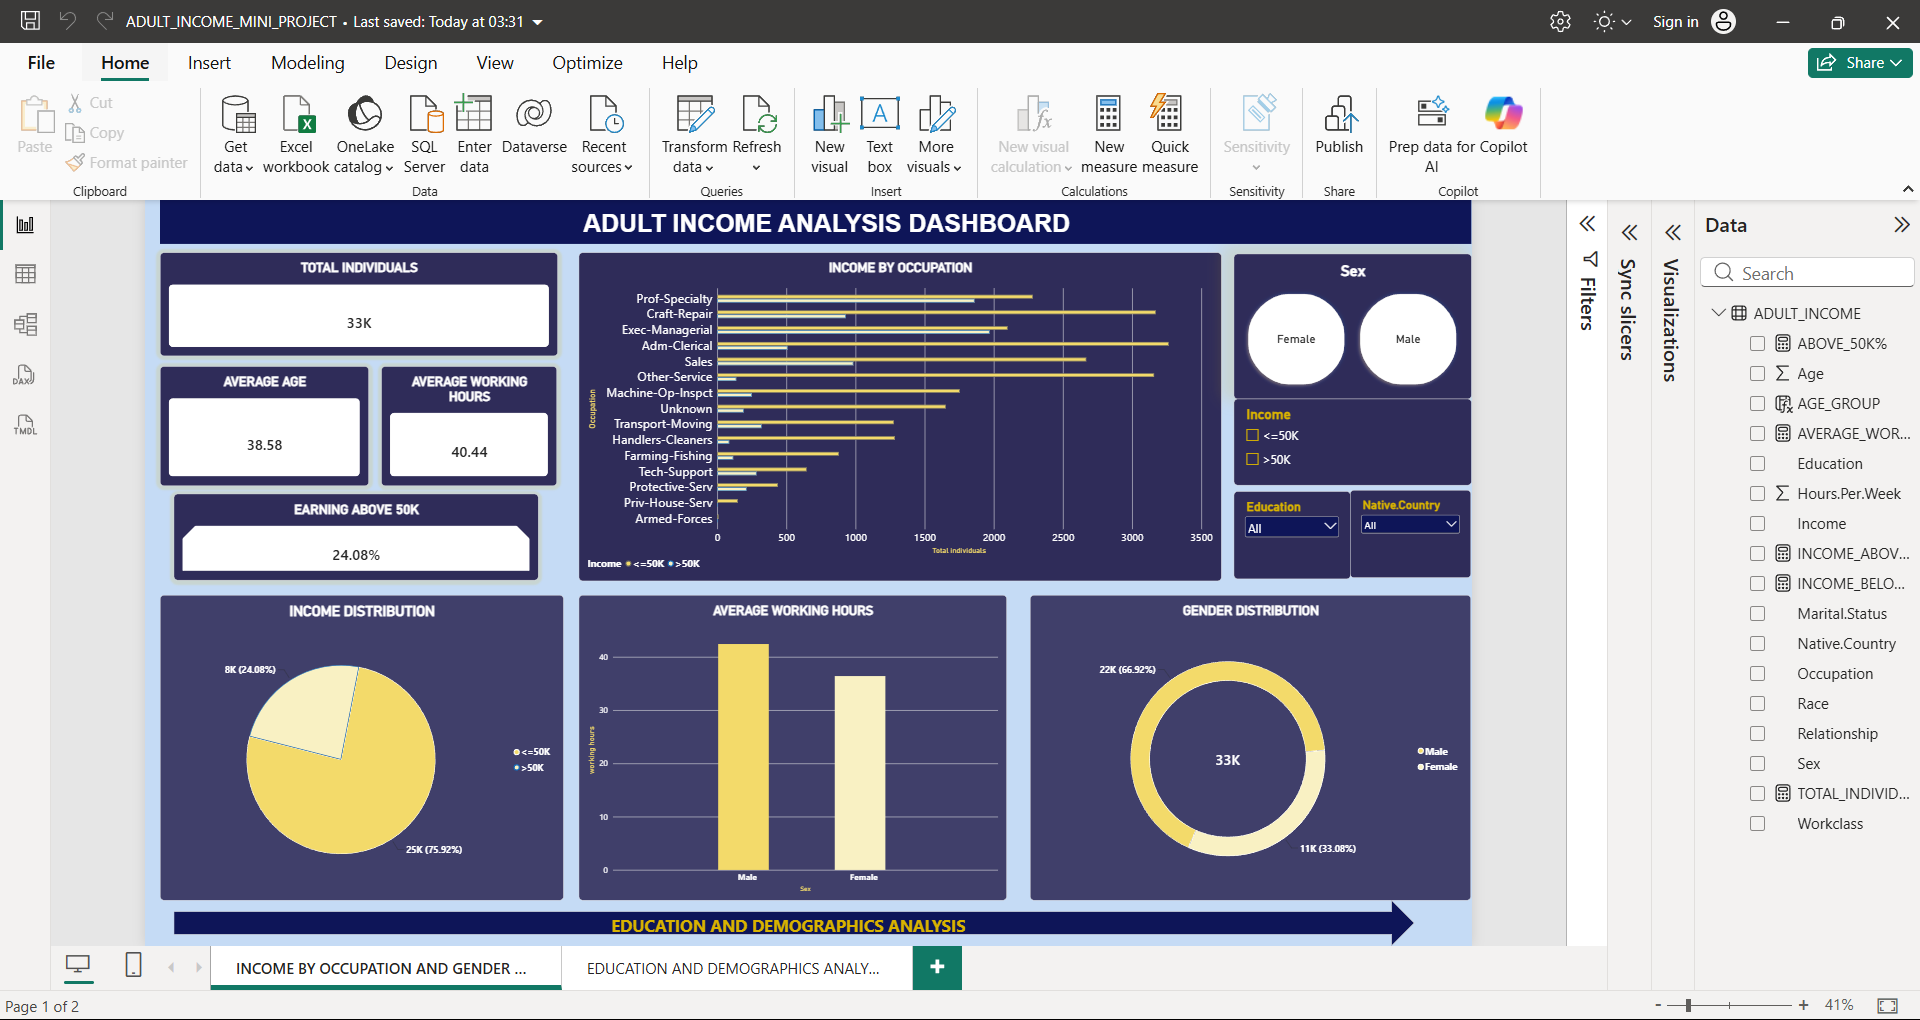

What the dashboard file says about the page in this screenshot:
{"tool":"powerbi","page":{"name":"INCOME BY OCCUPATION AND GENDER ANALYSIS","canvas":[2560,1440],"ordinal":0},"visuals":[{"type":"pieChart","title":"INCOME DISTRIBUTION","fields":{"Category":["ADULT_INCOME.Income"],"Y":["ADULT_INCOME.TOTAL_INDIVIDUALS"]},"box":[27.8,762.4,779.1,589.9],"z":0},{"type":"clusteredBarChart","title":"INCOME BY OCCUPATION","fields":{"Category":["ADULT_INCOME.Occupation"],"Series":["ADULT_INCOME.Income"],"Y":["ADULT_INCOME.TOTAL_INDIVIDUALS"]},"box":[837.6,100.2,1241,634.4],"z":1000},{"type":"donutChart","title":"GENDER DISTRIBUTION","fields":{"Category":["ADULT_INCOME.Sex"],"Y":["ADULT_INCOME.TOTAL_INDIVIDUALS"]},"box":[1708.5,762.4,851.5,589.9],"z":2000},{"type":"clusteredColumnChart","title":"AVERAGE WORKING HOURS ","fields":{"Category":["ADULT_INCOME.Sex"],"Y":["ADULT_INCOME.AVERAGE_WORKING_HOURS"]},"box":[837.6,762.4,826.4,589.9],"z":3000},{"type":"advancedSlicerVisual","fields":{"Values":["ADULT_INCOME.Sex"]},"box":[2100.9,103,459.1,281],"z":4000},{"type":"slicer","fields":{"Values":["ADULT_INCOME.Income"]},"box":[2100.9,384,459.1,167],"z":5000},{"type":"pageNavigator","box":[55.7,1352.3,2395.8,89],"z":6000},{"type":"slicer","fields":{"Values":["ADULT_INCOME.Education"]},"box":[2101.6,562.2,225.4,169.7],"z":7000},{"type":"cardVisual","title":"TOTAL INDIVIDUALS","fields":{"Data":["ADULT_INCOME.TOTAL_INDIVIDUALS"]},"box":[27.8,100.2,768,200.3],"z":8000},{"type":"cardVisual","title":"AVERAGE WORKING HOURS","fields":{"Data":["ADULT_INCOME.AVERAGE_WORKING_HOURS"]},"box":[456.3,320,339.5,231],"z":9000},{"type":"cardVisual","title":"EARNING ABOVE 50K","fields":{"Data":["ADULT_INCOME.ABOVE_50K%"]},"box":[55.7,567.7,704,167],"z":10000},{"type":"textbox","box":[29,0,2531.1,84.5],"z":11000},{"type":"slicer","fields":{"Values":["ADULT_INCOME.Native.Country"]},"box":[2326,559.8,233.7,169.7],"z":12000},{"type":"cardVisual","title":"AVERAGE AGE","fields":{"Data":["Avg(ADULT_INCOME.Age)"]},"box":[27.8,320,403.5,231],"z":12001}]}

Visuals, with their boxes on the page's 2560x1440 design canvas (x1, y1, x2, y2). These are canvas units, not pixel positions in the 1920x1020 screenshot, which may show the page scaled, cropped or inside an application window:
"INCOME DISTRIBUTION" pieChart: (28,762,807,1352)
"INCOME BY OCCUPATION" clusteredBarChart: (838,100,2079,735)
"GENDER DISTRIBUTION" donutChart: (1708,762,2560,1352)
"AVERAGE WORKING HOURS " clusteredColumnChart: (838,762,1664,1352)
advancedSlicerVisual - ADULT_INCOME.Sex: (2101,103,2560,384)
slicer - ADULT_INCOME.Income: (2101,384,2560,551)
pageNavigator: (56,1352,2452,1441)
slicer - ADULT_INCOME.Education: (2102,562,2327,732)
"TOTAL INDIVIDUALS" cardVisual: (28,100,796,300)
"AVERAGE WORKING HOURS" cardVisual: (456,320,796,551)
"EARNING ABOVE 50K" cardVisual: (56,568,760,735)
textbox: (29,0,2560,84)
slicer - ADULT_INCOME.Native.Country: (2326,560,2560,730)
"AVERAGE AGE" cardVisual: (28,320,431,551)
